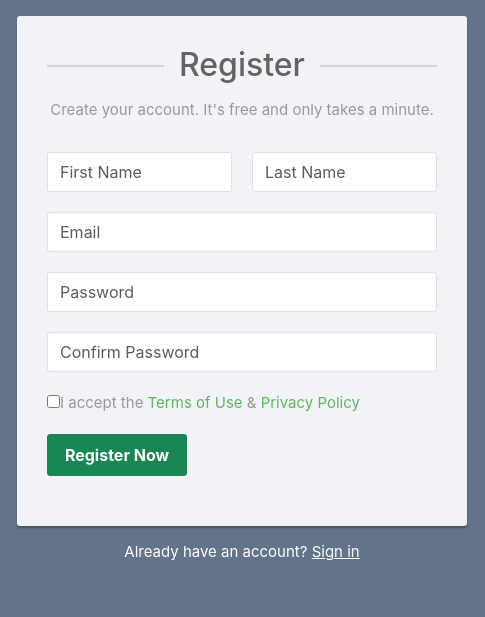
Test: RegisterPage component › renders registration form and Unauthorized
Type "John" into the field with placeholder "First Name" at (140, 172), box [47,152,232,192]
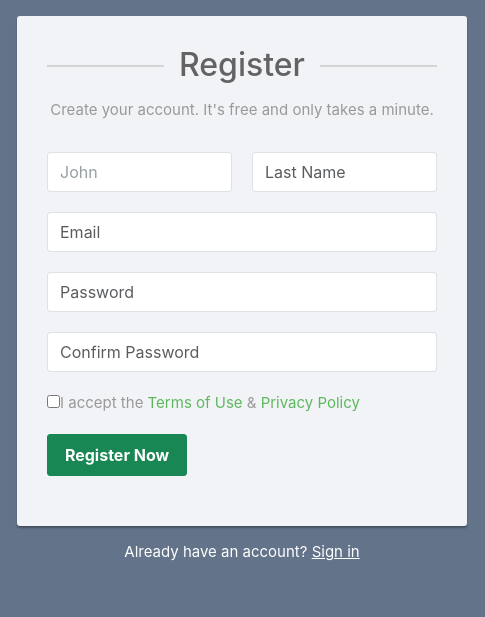
Type "Doe" into the field with placeholder "Last Name" at (344, 172), box [252,152,437,192]
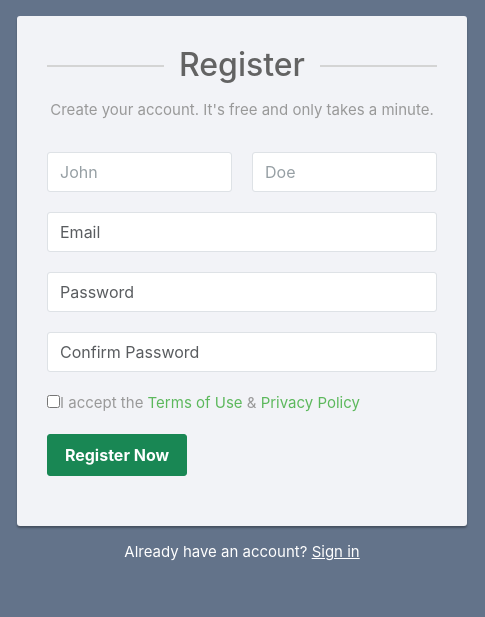
Type "test@example.com" into the field with placeholder "Email" at (242, 232), box [47,212,437,252]
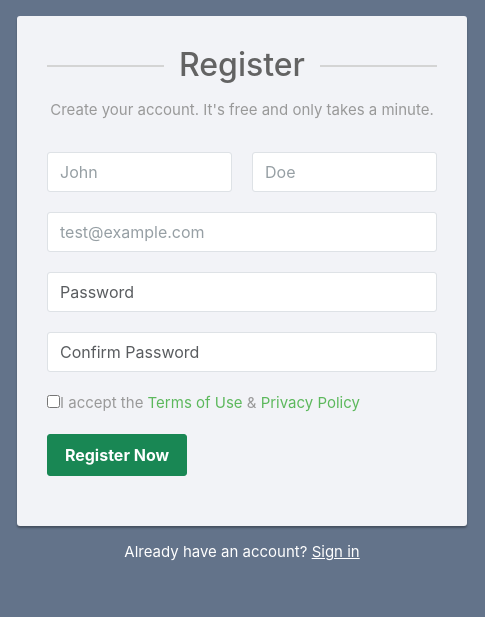
Type "testPassword" into the password field with placeholder "Password" at (242, 292), box [47,272,437,312]
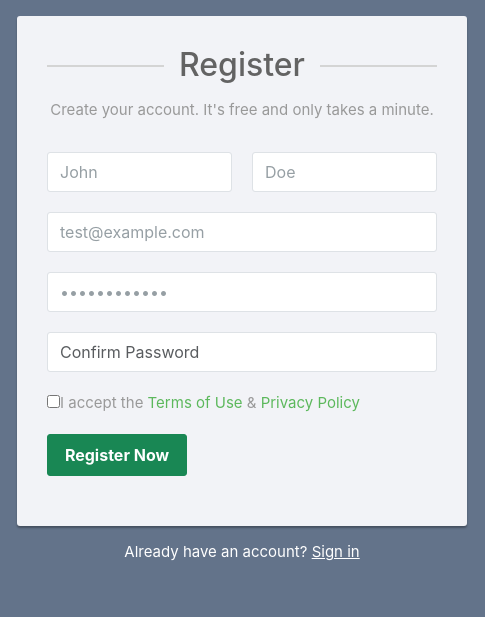
Type "testPassword" into the password field with placeholder "Confirm Password" at (242, 352), box [47,332,437,372]
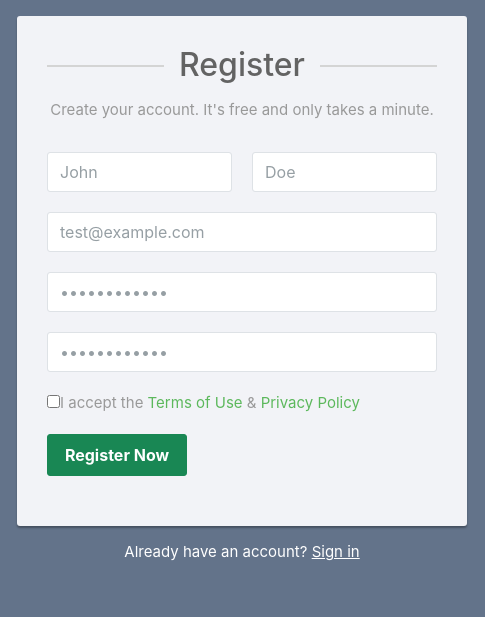
Submit the form from the button with test id "register", box [47,434,187,476]
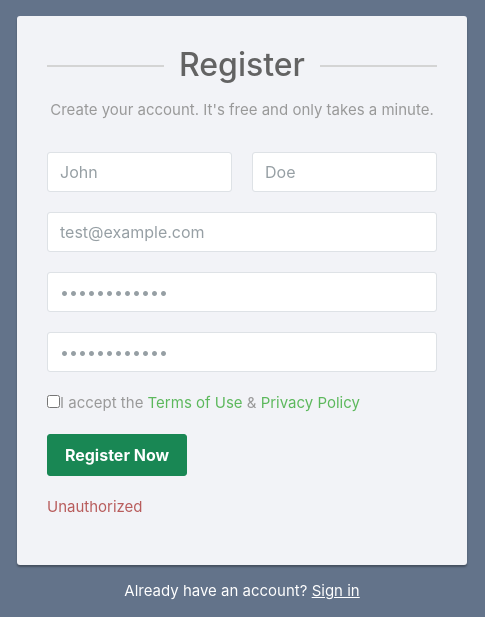
Now the text "Unauthorized" is shown, box [47,497,142,516]
